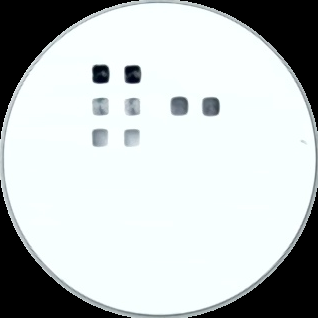检查点: (167, 96, 192, 118), (90, 62, 111, 85), (123, 63, 143, 85), (90, 97, 112, 117), (202, 96, 222, 118), (89, 128, 110, 148), (123, 127, 142, 149), (123, 97, 143, 117)
